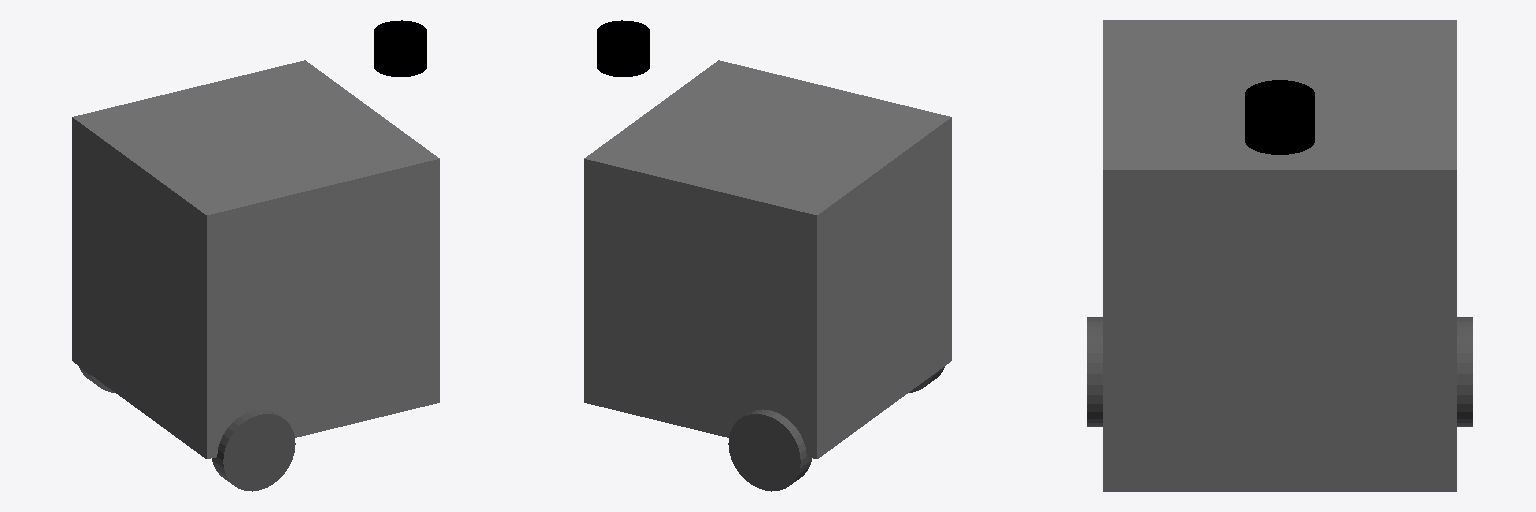
URDF robot description (box_robot):
<?xml version="1.0"?>
<robot name="box_robot">

  <material name="black">
    <color rgba="0.0 0.0 0.0 1.0"/>
  </material>
  <material name="orange">
    <color rgba="1.0 0.4 0.0 1.0"/>
  </material>
  <material name="grey">
    <color rgba="0.5 0.5 0.5 1.0"/>
  </material>
  <material name="light_black">
    <color rgba="0.4 0.4 0.4 1.0"/>
  </material>
  <material name="dark_grey">
    <color rgba="0.3 0.3 0.3 1.0"/>
  </material>

  <link name="base_footprint"/>

  <joint name="base_joint" type="fixed">
    <parent link="base_footprint"/>
    <child link="base_link"/>
    <origin xyz="0.15 0 0.36" rpy="0 0 0"/>
  </joint>

  <joint name="scan_joint" type="fixed">
    <parent link="base_link"/>
    <child link="base_scan"/>
    <origin xyz="0.31 0 0.36" rpy="0 0 0"/>
  </joint>

  <link name="base_link">
    <inertial>
      <origin xyz="0 0 0" rpy="0 0 0"/>
      <mass value="20.0"/>
      <inertia ixx="1.0" iyy="1.0" izz="1.5" ixy="0.0" iyz="0.0" ixz="0.0"/>
    </inertial>
    <visual>
      <origin xyz="0 0 0" rpy="0 0 0"/>
      <geometry>
        <box size="0.5 0.5 0.5"/>
      </geometry>
      <material name="grey"/>
    </visual>
    <collision>
      <origin xyz="0 0 0" rpy="0 0 0"/>
      <geometry>
        <box size="0.5 0.5 0.5"/>
      </geometry>
    </collision>
  </link>

  <link name="wheel_left_link">
    <inertial>
      <origin xyz="0 0 0" rpy="0 0 0"/>
      <mass value="2.85"/>
      <inertia ixx="0.01" iyy="0.01" izz="0.02" ixy="0.0" iyz="0.0" ixz="0.0"/>
    </inertial>
    <visual>
      <origin xyz="0 0 0" rpy="1.5707 0 0"/>
      <geometry>
        <cylinder length="0.045" radius="0.0775"/>
      </geometry>
      <material name="light_black"/>
    </visual>
    <collision>
      <origin xyz="0 0 0" rpy="1.5707 0 0"/>
      <geometry>
        <cylinder length="0.045" radius="0.0775"/>
      </geometry>
    </collision>
  </link>

  <link name="wheel_right_link">
    <inertial>
      <origin xyz="0 0 0" rpy="0 0 0"/>
      <mass value="2.85"/>
      <inertia ixx="0.01" iyy="0.01" izz="0.02" ixy="0.0" iyz="0.0" ixz="0.0"/>
    </inertial>
    <visual>
      <origin xyz="0 0 0" rpy="1.5707 0 0"/>
      <geometry>
        <cylinder length="0.045" radius="0.0775"/>
      </geometry>
      <material name="light_black"/>
    </visual>
    <collision>
      <origin xyz="0 0 0" rpy="1.5707 0 0"/>
      <geometry>
        <cylinder length="0.045" radius="0.0775"/>
      </geometry>
    </collision>
  </link>

  <link name="base_scan">
    <inertial>
      <origin xyz="0 0 0" rpy="0 0 0"/>
      <mass value="0.114"/>
      <inertia ixx="0.001" iyy="0.001" izz="0.001" ixy="0.0" iyz="0.0" ixz="0.0"/>
    </inertial>
    <visual>
      <origin xyz="0 0 0" rpy="0 0 0"/>
      <geometry>
        <cylinder length="0.07" radius="0.05"/>
      </geometry>
      <material name="black"/>
    </visual>
    <collision>
      <origin xyz="0 0 0" rpy="0 0 0"/>
      <geometry>
        <cylinder length="0.07" radius="0.05"/>
      </geometry>
    </collision>
  </link>

  <joint name="wheel_left_joint" type="fixed">
    <origin xyz="-0.15 0.25 -0.25" rpy="0 0 0"/>
    <parent link="base_link"/>
    <child link="wheel_left_link"/>
    <axis xyz="0.0 1.0 0.0"/>
  </joint>

  <joint name="wheel_right_joint" type="fixed">
    <origin xyz="-0.15 -0.25 -0.25" rpy="0 0 0"/>
    <parent link="base_link"/>
    <child link="wheel_right_link"/>
    <axis xyz="0.0 -1.0 0.0"/>
  </joint>

</robot>

--- What the picture shows (computed from the rendered views, not written in the file) ---
Views: 3 orthographic renders of the robot side by side, from view 1: azimuth 30°, elevation 25°; view 2: azimuth 150°, elevation 25°; view 3: azimuth 270°, elevation 25°.
Robot: box_robot — 5 links, 4 joints (4 fixed); root link base_footprint; default pose: all joints at 0.
Visible links, largest first — view 1: base_link, wheel_right_link, base_scan; view 2: base_link, wheel_left_link, base_scan; view 3: base_link, base_scan, wheel_left_link, wheel_right_link.
Boxes of the visible links, bbox=[...] form: base_link: bbox=[72, 60, 439, 458]; wheel_right_link: bbox=[212, 409, 295, 491]; base_scan: bbox=[374, 20, 426, 76]; base_link: bbox=[584, 60, 951, 458]; wheel_left_link: bbox=[728, 409, 811, 491]; base_scan: bbox=[597, 20, 649, 76]; base_link: bbox=[1103, 20, 1456, 491]; base_scan: bbox=[1245, 80, 1314, 154]; wheel_left_link: bbox=[1457, 317, 1472, 426]; wheel_right_link: bbox=[1087, 317, 1102, 426].
Size in the robot's own frame: 0.61 by 0.545 by 0.7225 metres.
Geometry: primitives only (box / cylinder / sphere), no mesh files.